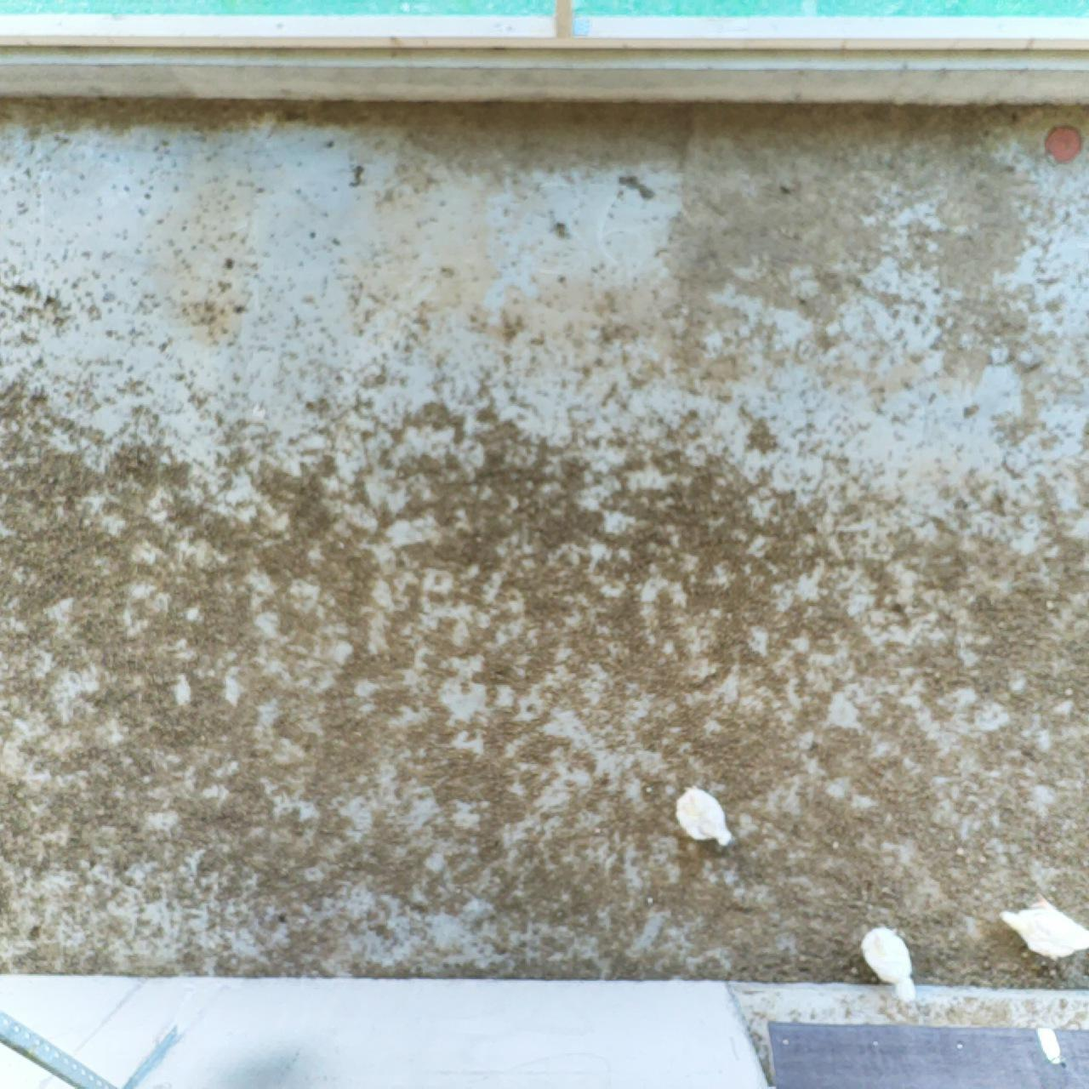chicken: (996, 888, 1089, 961), (858, 921, 920, 1005), (671, 782, 738, 849)
